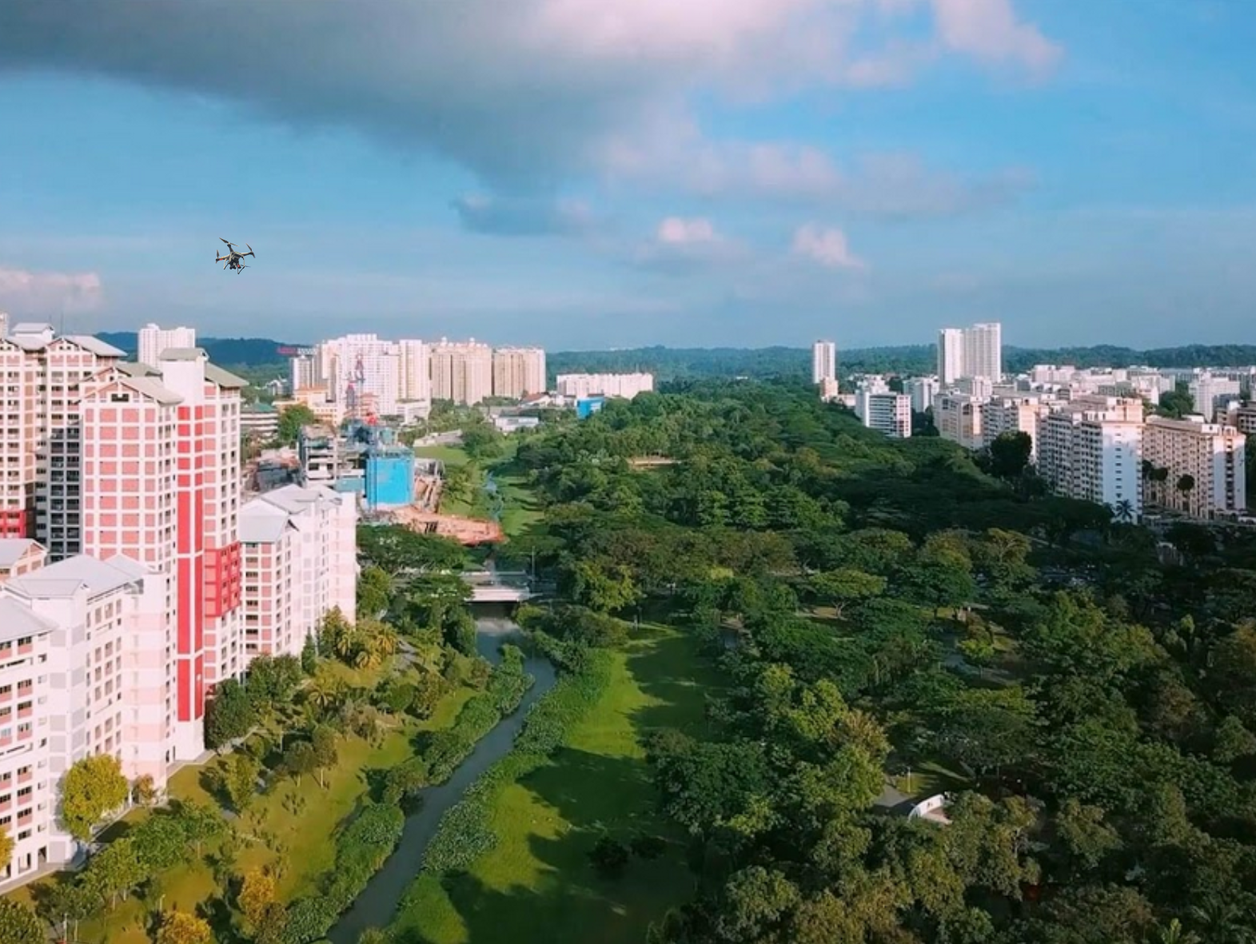drone_other: (213, 235, 257, 276)
